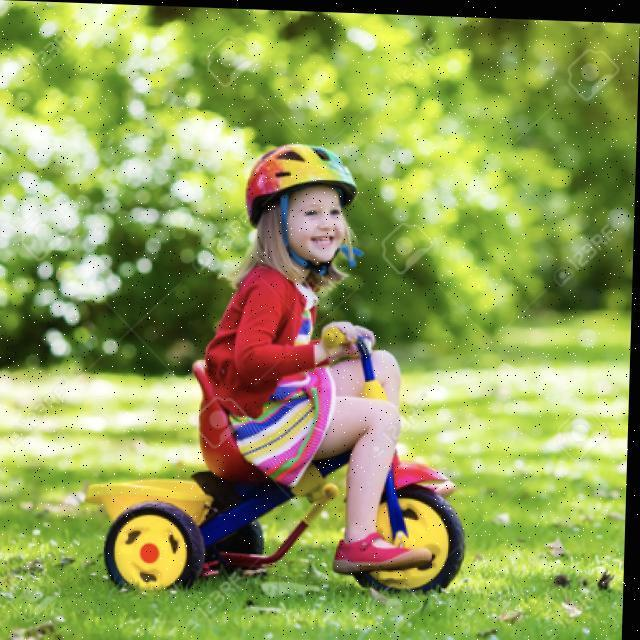Helmet: (235, 130, 392, 278)
